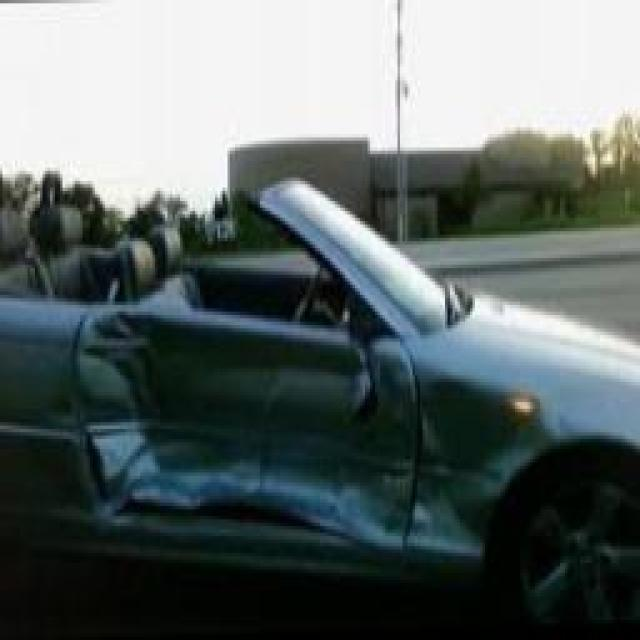Door: (86, 311, 426, 557)
